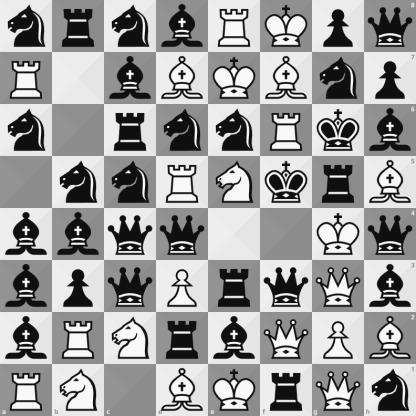B: (156, 364, 209, 416), (364, 156, 416, 209), (364, 312, 416, 364), (157, 53, 208, 104), (261, 53, 312, 104)
K: (209, 364, 260, 416), (209, 53, 260, 104), (261, 1, 312, 52), (313, 209, 364, 260)
N: (52, 364, 104, 416), (105, 313, 156, 364), (209, 157, 260, 208)
P: (157, 261, 208, 312), (313, 313, 364, 364)
Q: (312, 364, 364, 416), (261, 313, 312, 364), (313, 261, 364, 312)
R: (0, 364, 52, 416), (1, 53, 52, 104), (53, 313, 104, 364), (157, 157, 208, 208), (209, 1, 260, 52), (261, 105, 312, 156)
b: (364, 104, 416, 156), (364, 260, 416, 312), (1, 209, 52, 260), (1, 261, 52, 312), (1, 313, 52, 364), (53, 209, 104, 260), (105, 53, 156, 104), (157, 1, 208, 52), (209, 313, 260, 364)
board: (0, 0, 415, 415)
k: (261, 157, 312, 208), (313, 105, 364, 156)
n: (364, 364, 416, 416), (1, 1, 52, 52), (1, 105, 52, 156), (53, 157, 104, 208), (105, 1, 156, 52), (105, 157, 156, 208), (157, 105, 208, 156), (209, 105, 260, 156), (313, 53, 364, 104)
p: (364, 52, 416, 104), (53, 261, 104, 312), (313, 1, 364, 52)
q: (364, 0, 416, 52), (364, 209, 416, 260), (105, 209, 156, 260), (105, 261, 156, 312), (157, 209, 208, 260), (261, 261, 312, 312)
r: (260, 364, 312, 416), (53, 1, 104, 52), (105, 105, 156, 156), (157, 313, 208, 364), (209, 261, 260, 312), (313, 157, 364, 208)
